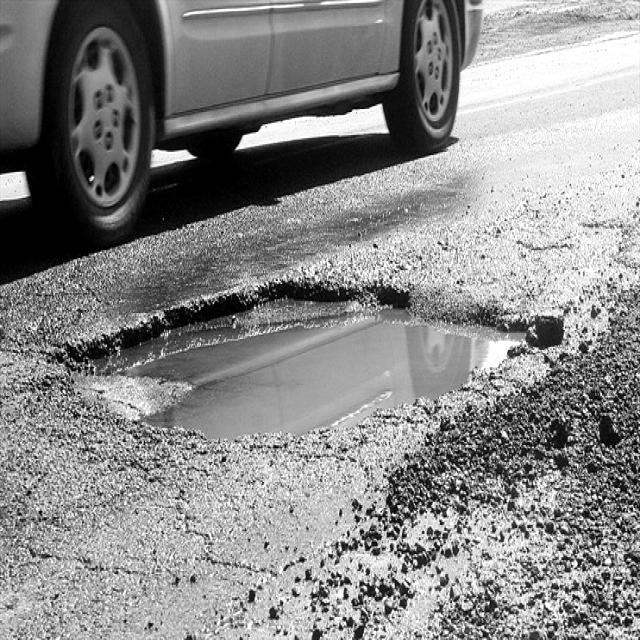pathole: (55, 270, 578, 445)
